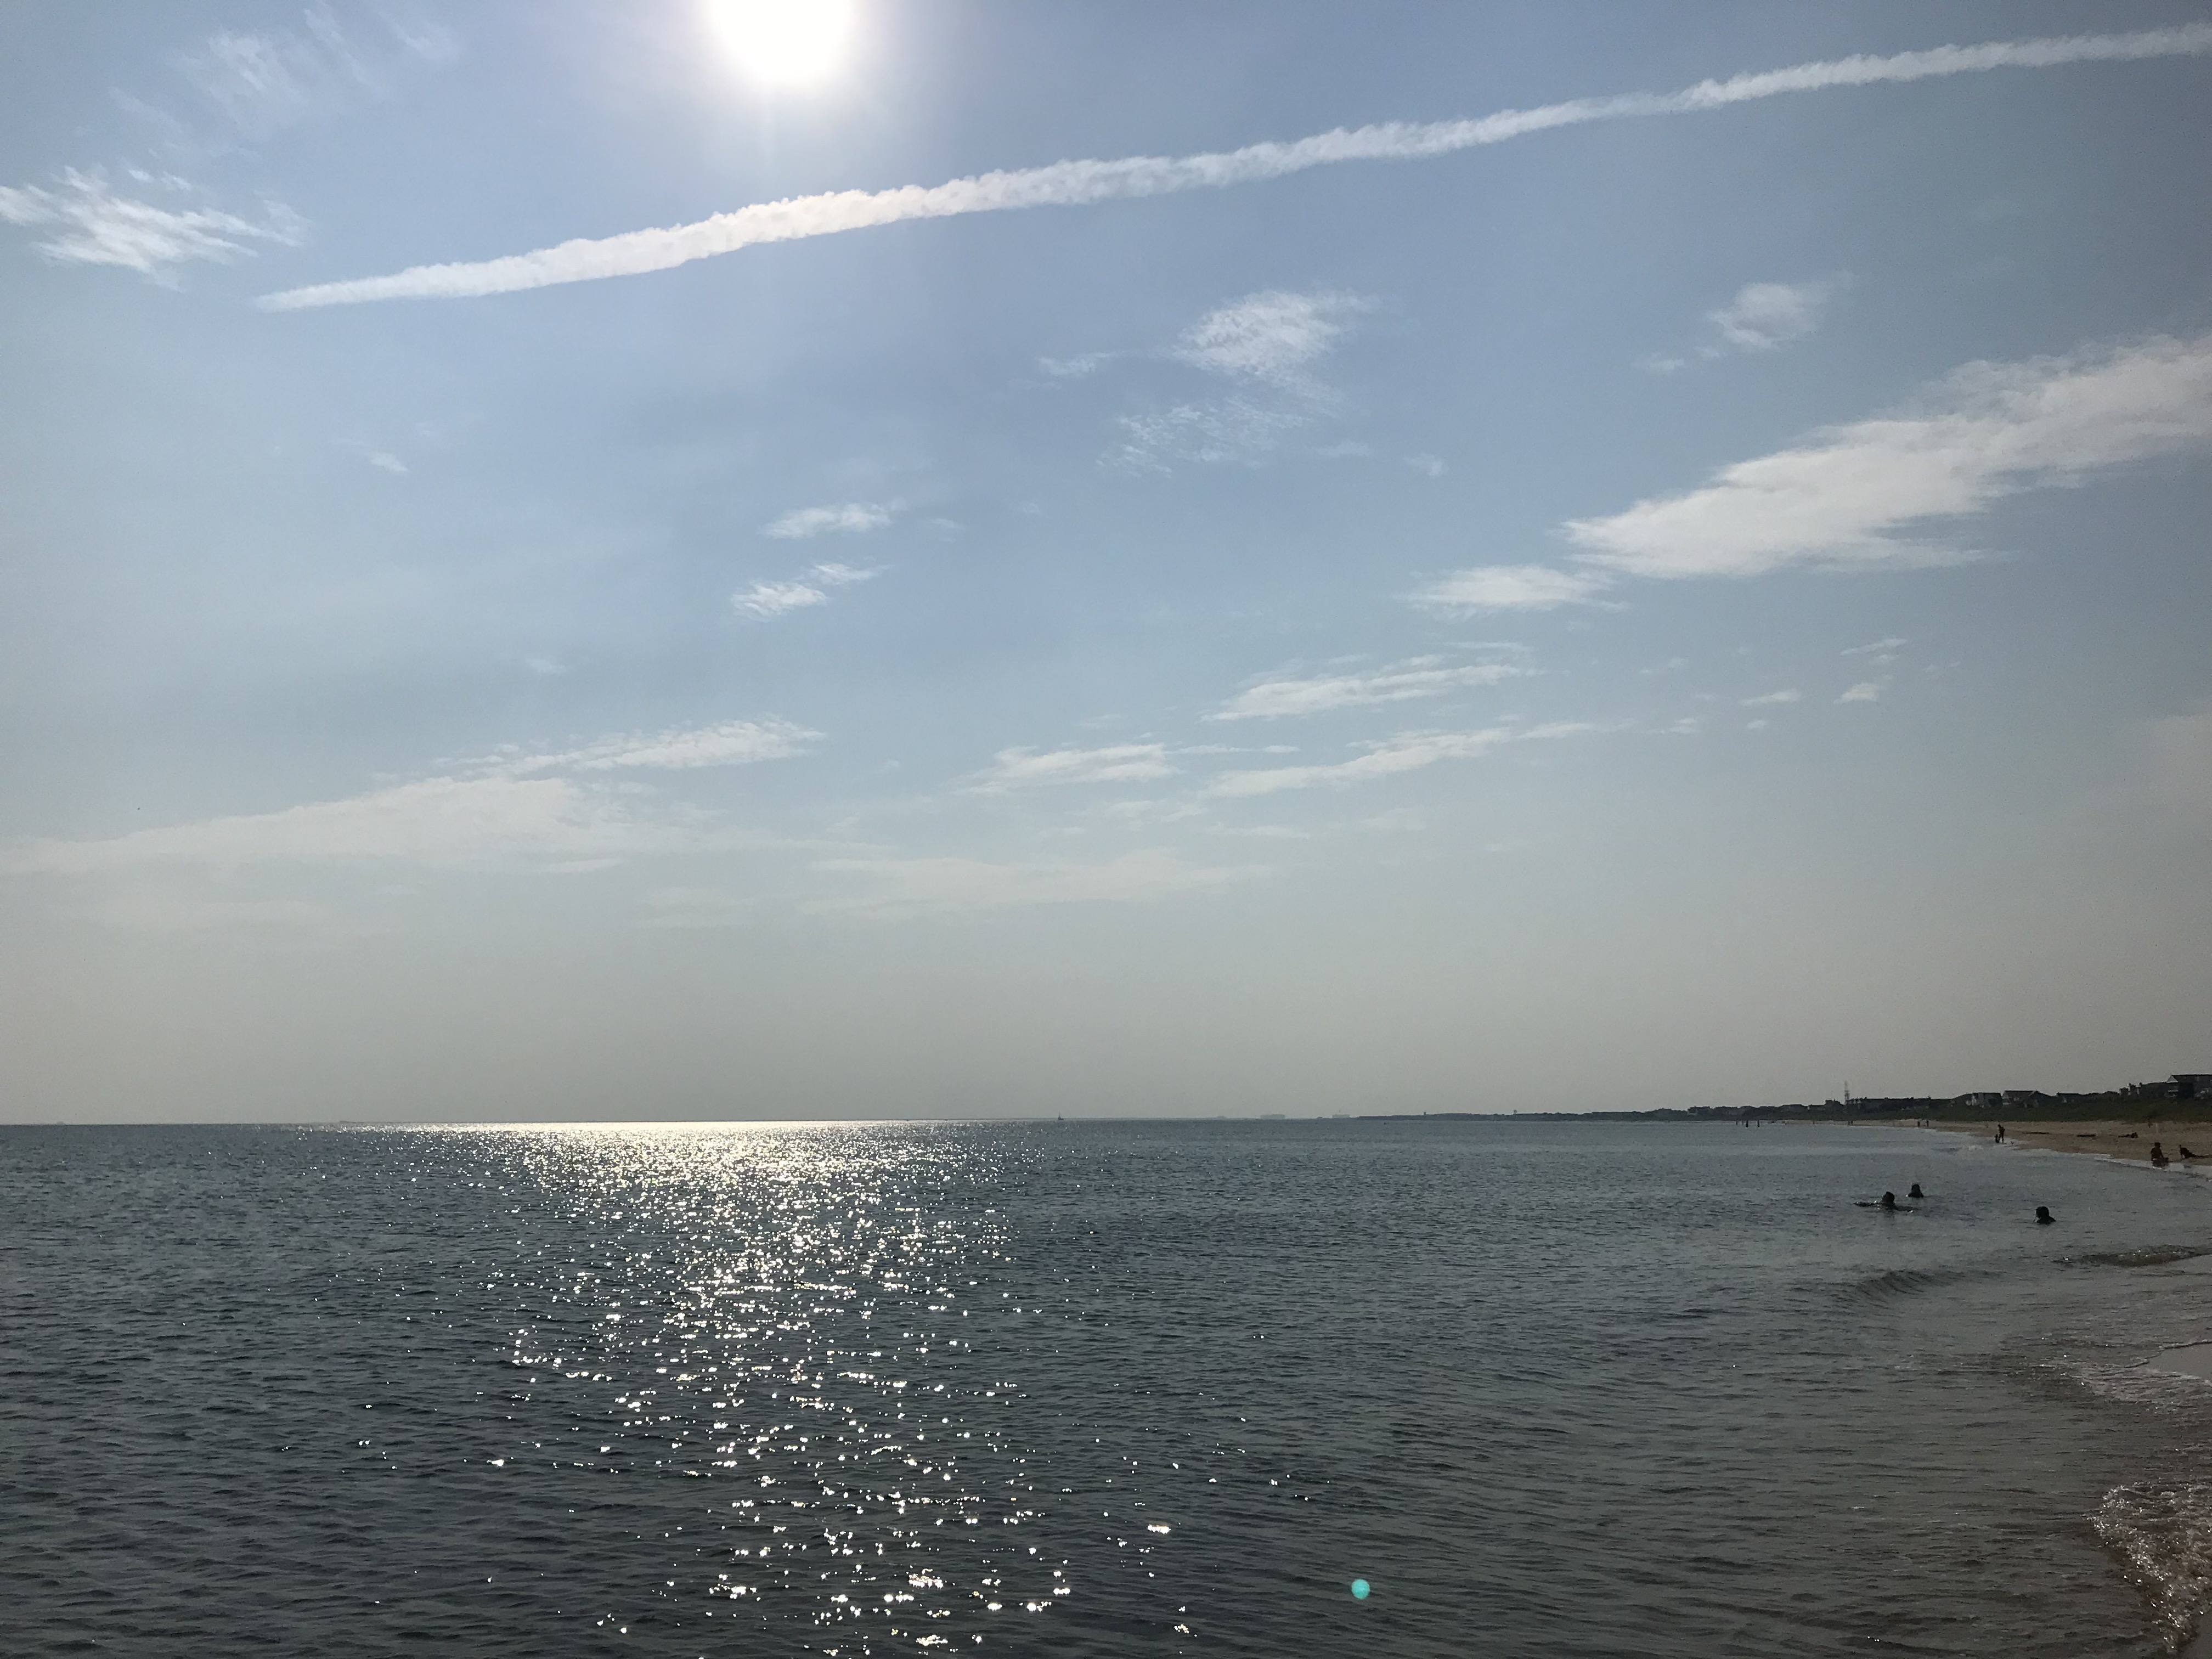flare: (1348, 1577, 1372, 1601)
